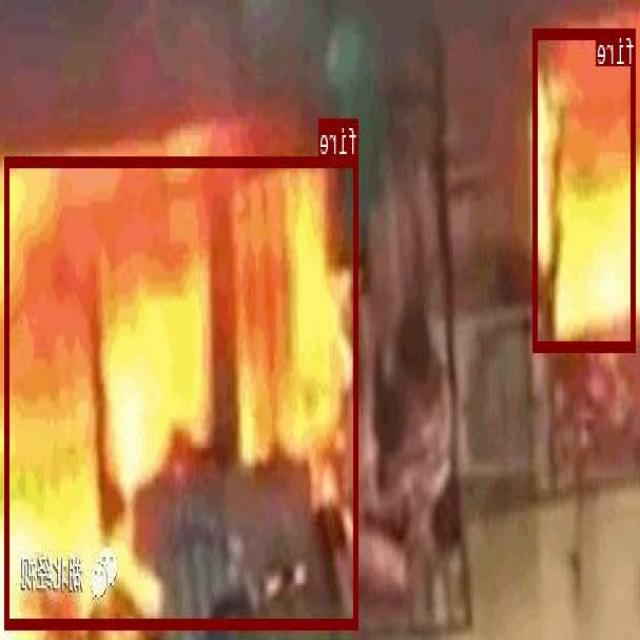fire: (6, 154, 359, 626), (534, 27, 637, 349)
